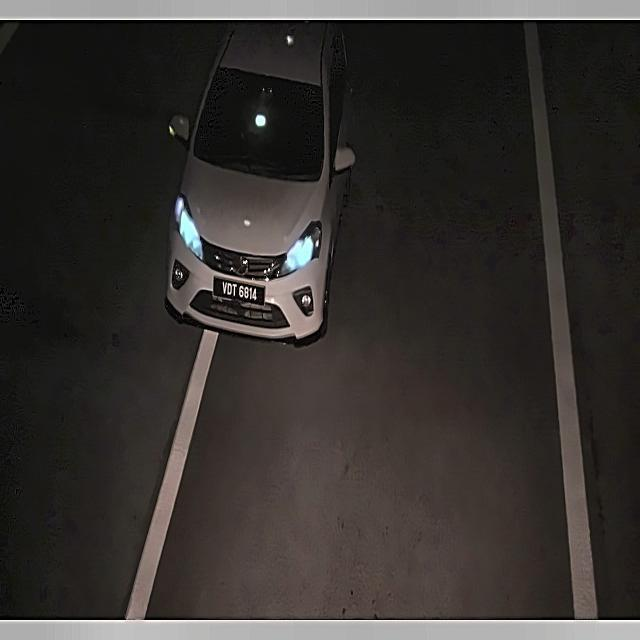car: (210, 271, 268, 312)
